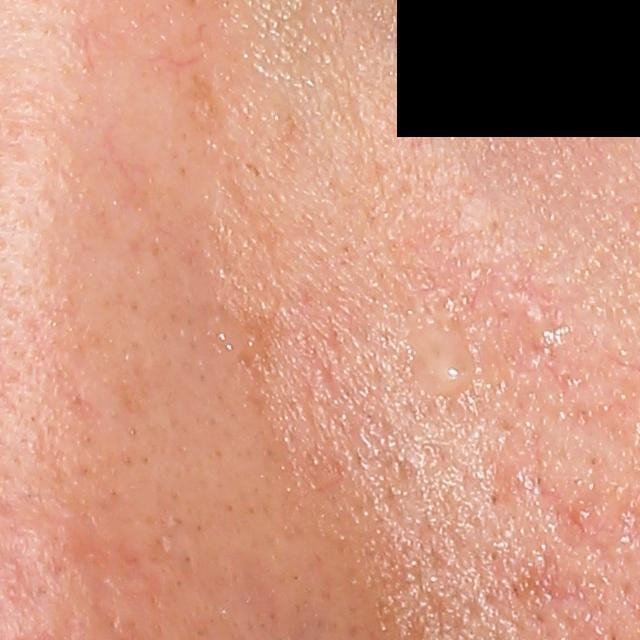other: (403, 313, 478, 399)
